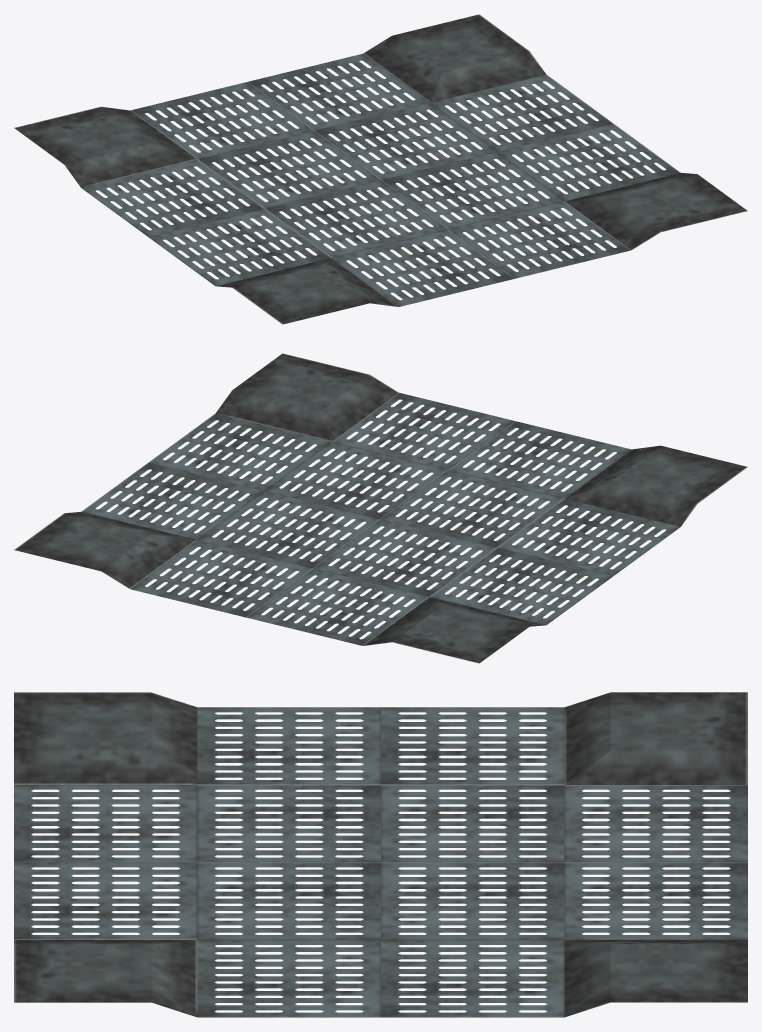
The model's file is MESH_GROUND_METAL_02.fbx.
3 renders of one model, top to bottom at view 1: azimuth 30°, elevation 25°; view 2: azimuth 150°, elevation 25°; view 3: azimuth 270°, elevation 25°, orthographic. The views are drawn at different scales.
Visible parts, largest first — view 1: MESH_GROUND_METAL_02; view 2: MESH_GROUND_METAL_02; view 3: MESH_GROUND_METAL_02.
Boxes of the visible parts, x1,y1,x2,y2 form: MESH_GROUND_METAL_02: (14, 14, 747, 324); MESH_GROUND_METAL_02: (14, 353, 747, 663); MESH_GROUND_METAL_02: (14, 692, 747, 1017).
Size of the model in its own units: 4 by 0.0895 by 4.
